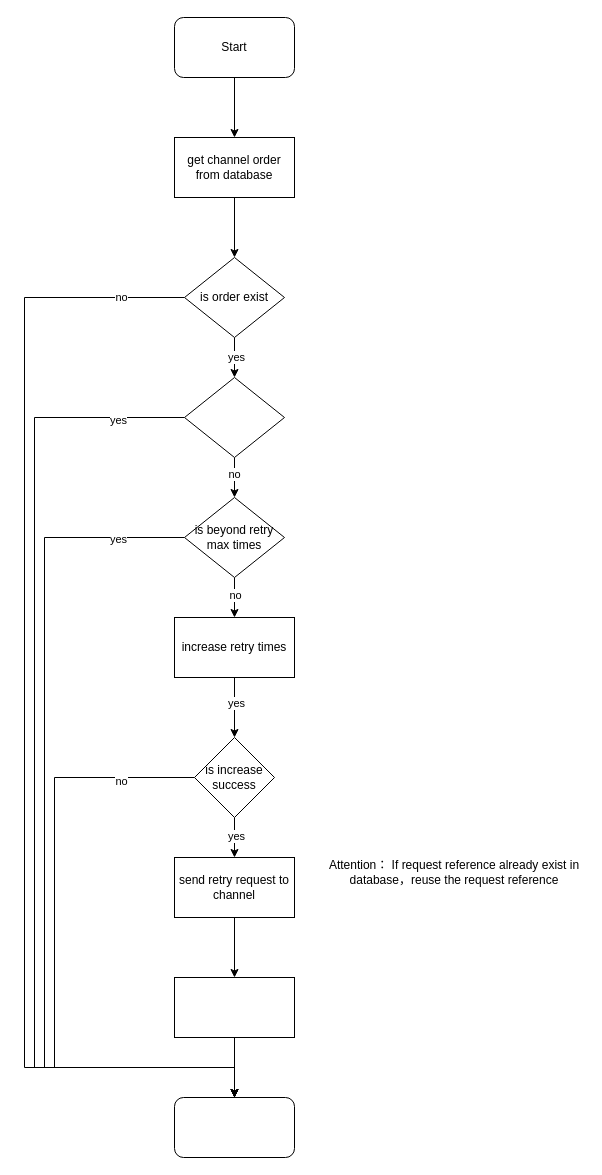
The diagram is 602 pixels wide and 1175 high, and some of its shapes have lost their labels. The shapes that lost their labels are listed below. From the top down, each one's centre as x and y in pixels, then its label:
At point 234,417: "is final status".
At point 234,1007: "re-calculate transaction status and update order".
At point 234,1127: "End".
